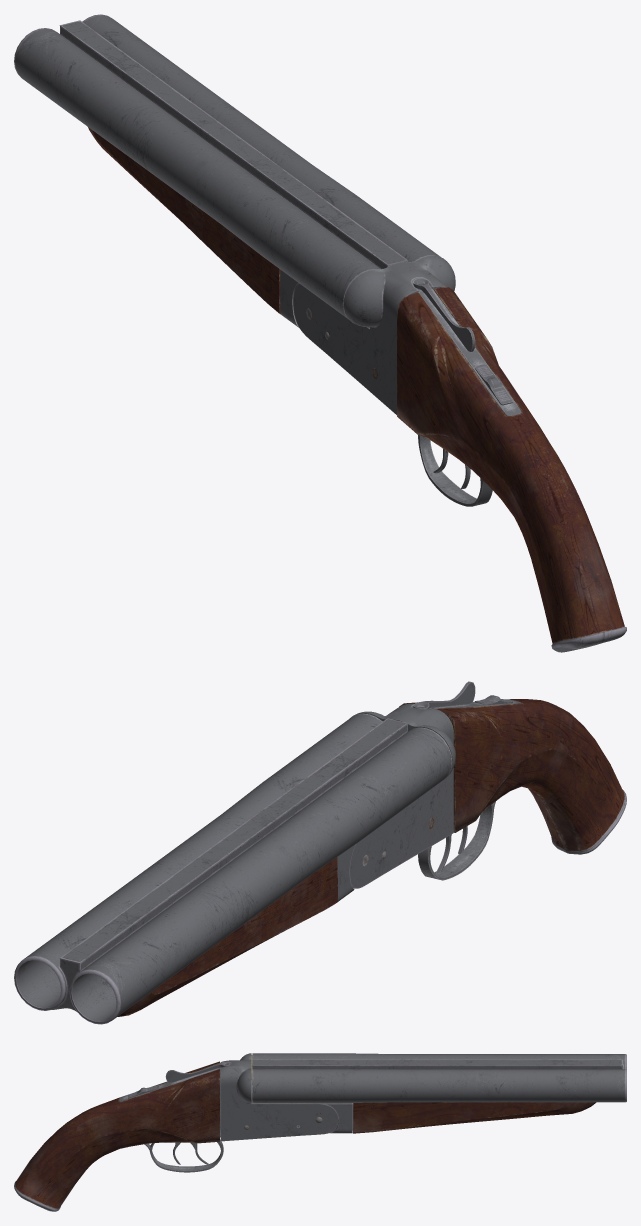
Rendered from dupla.glb.
3 views of the same model, one above another, from view 1: azimuth 30°, elevation 25°; view 2: azimuth 150°, elevation 25°; view 3: azimuth 270°, elevation 25° (orthographic). The views are drawn at different scales.
Visible parts, largest first — view 1: Barrel_low, MainGrip_low, Reciever_low, Grip_low, Lever_low; view 2: Barrel_low, MainGrip_low, Reciever_low, Grip_low, Lever_low, Break_low; view 3: Barrel_low, MainGrip_low, Reciever_low, Grip_low, Break_low, Lever_low.
Part boxes in pixels (x1,y1,x2,y2): Barrel_low: (14,14,440,327); MainGrip_low: (397,287,626,652); Reciever_low: (293,255,521,506); Grip_low: (88,127,280,314); Lever_low: (413,278,475,351); Barrel_low: (14,713,452,1024); MainGrip_low: (399,699,626,854); Reciever_low: (350,699,521,888); Grip_low: (118,857,337,1016); Lever_low: (413,681,475,709); Break_low: (337,844,355,901); Barrel_low: (252,1053,626,1103); MainGrip_low: (14,1061,219,1211); Reciever_low: (119,1053,338,1172); Grip_low: (353,1102,596,1133); Break_low: (326,1103,353,1133); Lever_low: (165,1062,230,1082).
Bounding box in the file's own units: 0.2333 × 0.5265 × 2.
12 materials, 12 textured.
